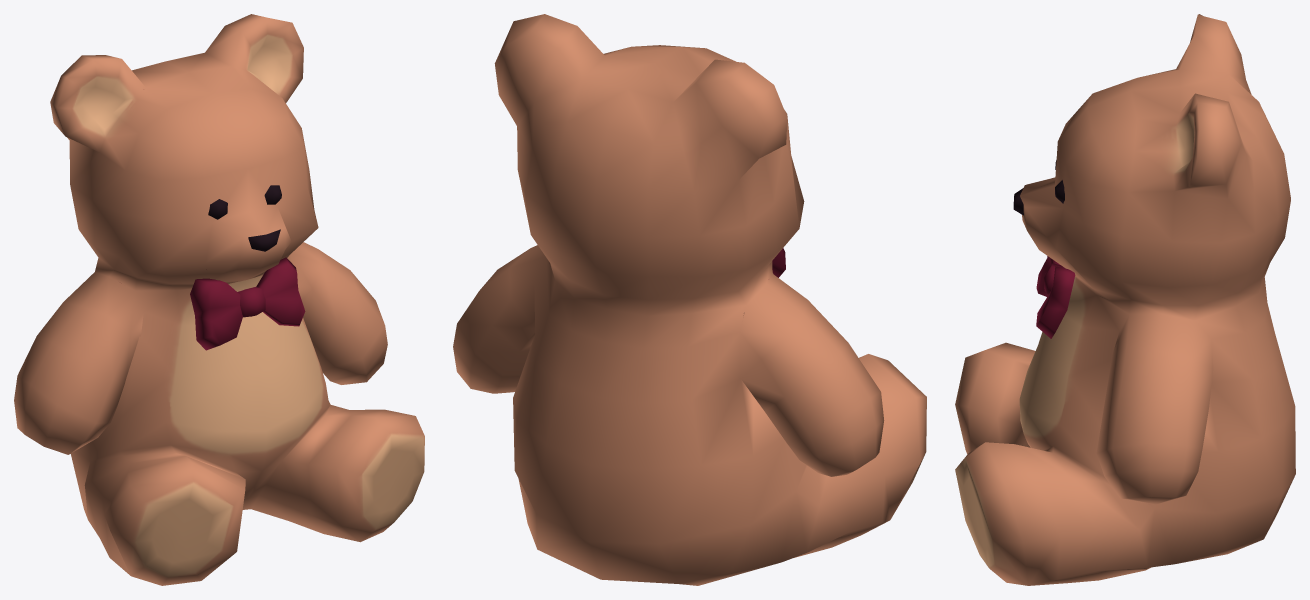
The model's file is cowboy.glb.
The picture shows the model from 3 angles, left to right: view 1: azimuth 30°, elevation 25°; view 2: azimuth 150°, elevation 25°; view 3: azimuth 270°, elevation 25°; orthographic projection. The views are drawn at different scales.
Parts seen in each view (by area): view 1: Cylinder001_0, Plane, eye_r.001; view 2: Cylinder001_0; view 3: Cylinder001_0, Plane.
Boxes of the visible parts, x1=… form: Cylinder001_0: x1=14, y1=14, x2=424, y2=585; Plane: x1=190, y1=257, x2=305, y2=350; eye_r.001: x1=208, y1=185, x2=281, y2=219; Cylinder001_0: x1=453, y1=14, x2=926, y2=585; Cylinder001_0: x1=955, y1=14, x2=1295, y2=585; Plane: x1=1036, y1=256, x2=1075, y2=338.
Bounding box in the file's own units: 6.35 × 7.76 × 5.1.
Materials: 1 (1 with a texture image).
